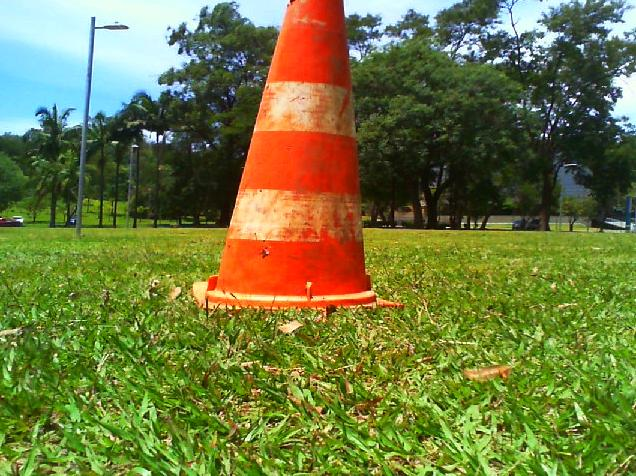0 cone: (188, 0, 404, 309)
